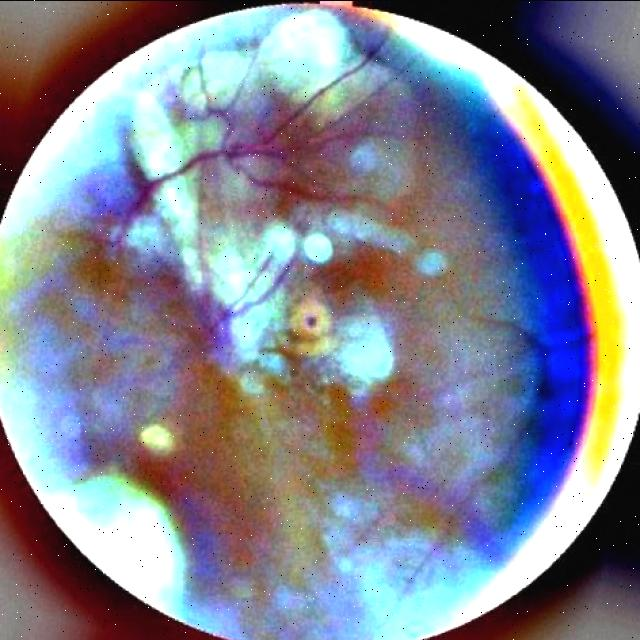Nerves: (133, 47, 378, 209), (201, 252, 293, 346), (231, 164, 358, 203)
